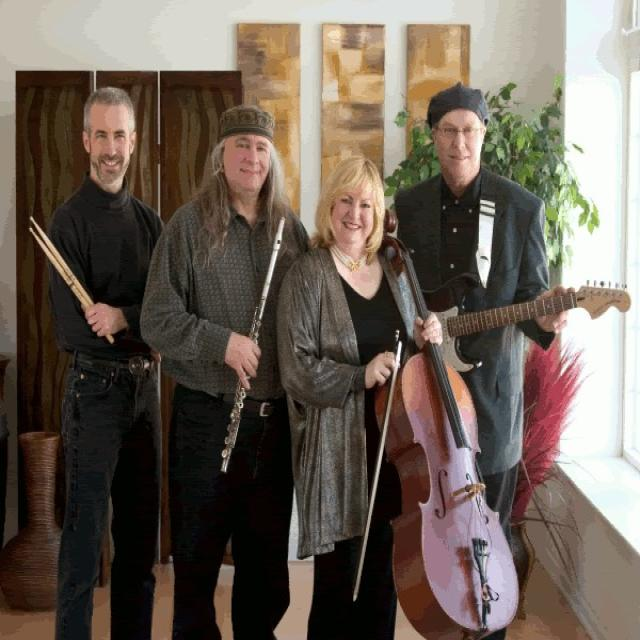cello: (361, 203, 524, 639)
guitar: (399, 265, 633, 376)
